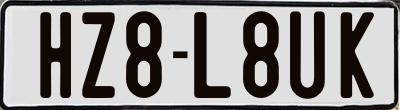8: (126, 11, 167, 102), (241, 11, 280, 103)
H: (40, 12, 72, 101)
K: (340, 11, 377, 99)
L: (193, 9, 236, 98)
U: (289, 11, 326, 100)
Z: (80, 12, 119, 102)
